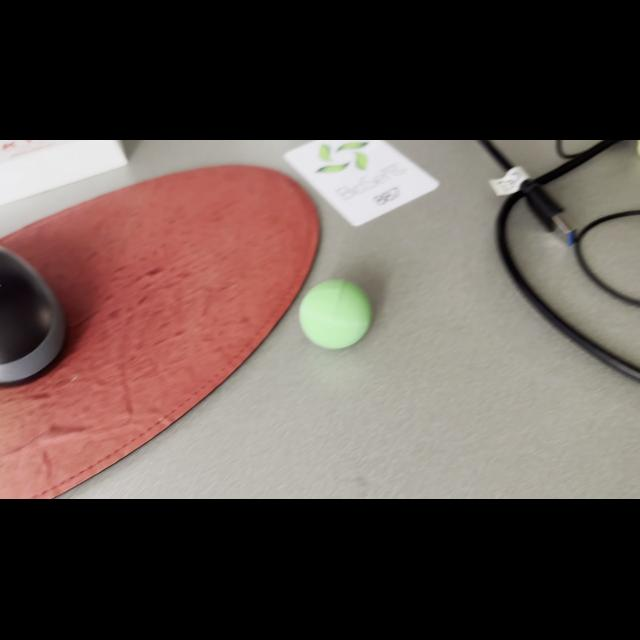objects: (292, 275, 378, 355)
